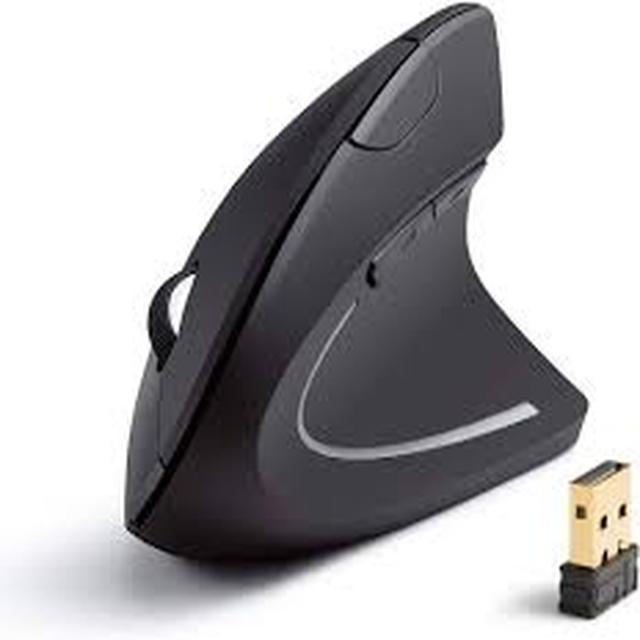mouse: (90, 15, 618, 598)
